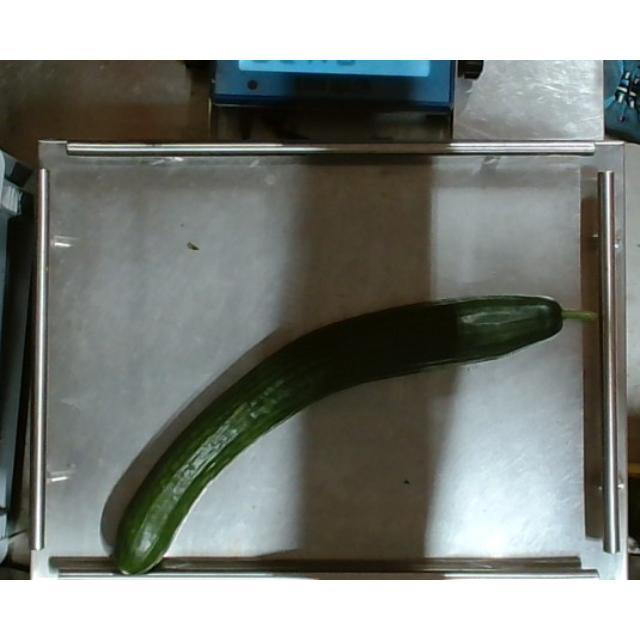cucumber: (109, 293, 597, 575)
